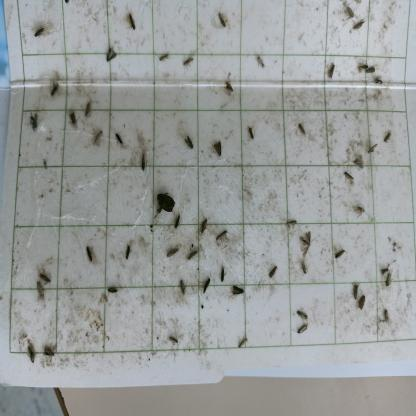prays_oleae: (322, 56, 342, 100), (80, 239, 99, 268), (350, 12, 372, 37), (332, 237, 349, 268), (212, 5, 231, 32), (35, 262, 54, 286), (208, 139, 228, 161), (346, 274, 361, 303), (296, 115, 310, 145), (220, 76, 235, 104), (24, 340, 37, 372), (30, 280, 53, 298), (65, 108, 80, 135), (180, 52, 198, 74), (26, 108, 40, 136), (41, 340, 58, 363), (284, 212, 300, 236), (197, 210, 210, 238), (200, 274, 214, 300), (235, 331, 250, 355), (228, 282, 250, 298), (124, 13, 140, 35), (244, 124, 258, 149), (102, 281, 119, 301), (293, 305, 311, 323), (377, 305, 393, 325), (47, 78, 60, 102), (219, 263, 230, 291), (170, 214, 184, 236), (165, 329, 182, 347), (136, 148, 148, 173), (352, 152, 366, 173), (293, 323, 310, 340), (265, 258, 277, 282), (92, 124, 103, 150), (178, 276, 189, 300), (255, 50, 268, 70), (165, 244, 181, 260), (383, 123, 394, 146), (353, 293, 367, 311), (296, 258, 310, 276), (80, 93, 88, 124), (353, 198, 366, 217), (182, 134, 195, 153), (355, 56, 367, 76), (341, 165, 354, 183), (213, 228, 229, 242), (158, 46, 169, 66), (32, 28, 47, 42), (188, 241, 197, 264), (344, 9, 357, 24), (366, 141, 378, 157), (383, 271, 395, 287), (113, 124, 121, 148), (364, 64, 378, 76), (124, 236, 129, 268), (372, 77, 386, 87)
